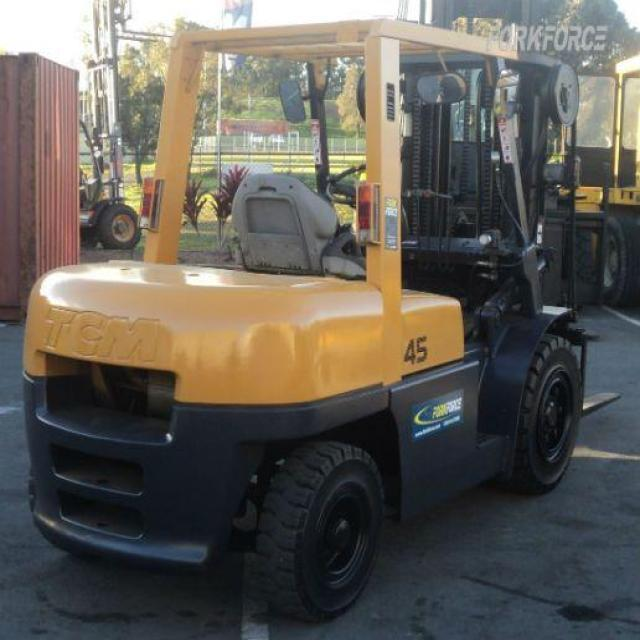forklift: (22, 12, 597, 631)
